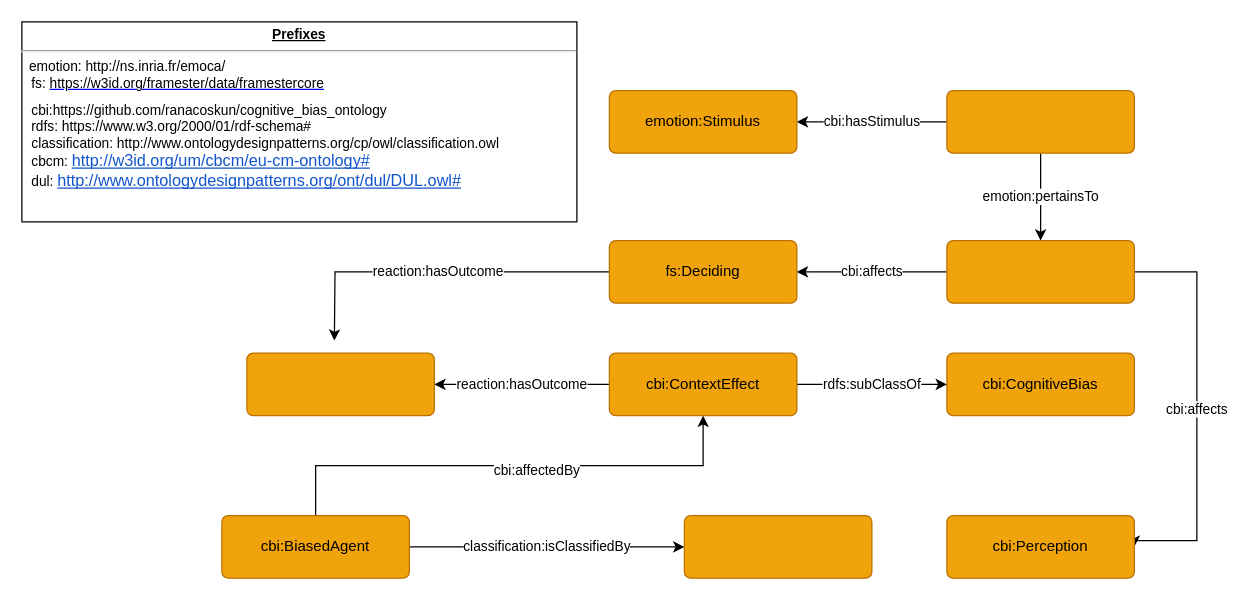
Some shapes in this 1249 by 600 pixel diagram are drawn without their labels. Here are the shapes that lost their labels. From the top down, the centre of each, then its label:
At [1040,121]: "dul:Situation".
At [1040,271]: "cbi:Context".
At [340,384]: "cbcm:Behaviour".
At [777,546]: "fs:People".
